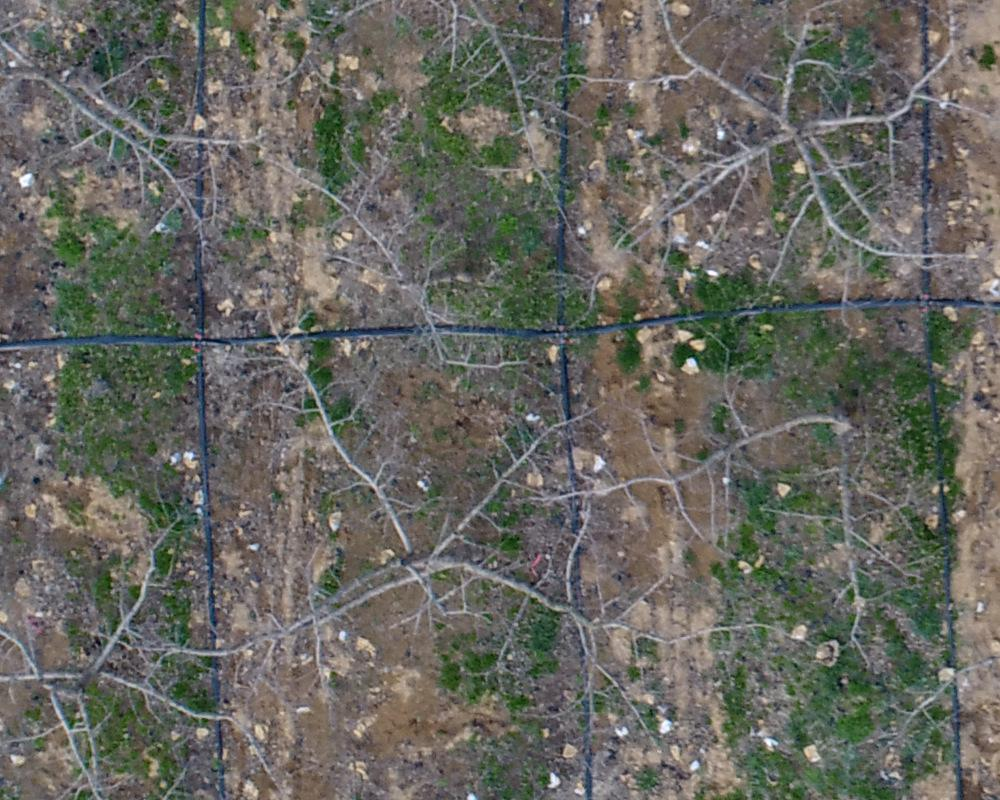apple: (158, 310, 820, 755), (577, 10, 990, 306), (569, 361, 924, 658), (196, 10, 601, 216), (10, 503, 296, 790), (265, 137, 525, 388), (10, 10, 269, 258)
